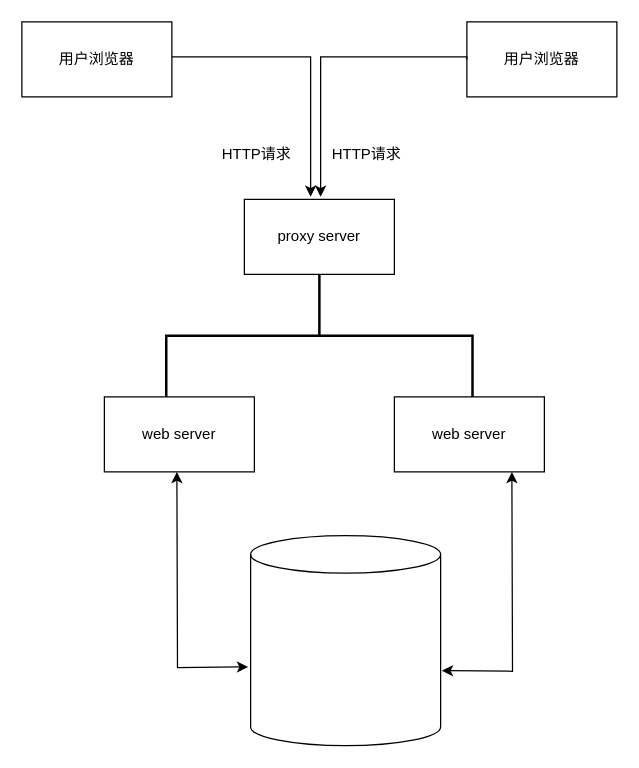
Image size: 639x768. Some labels were removed from this diagram. Each missing label, with the box of its shape:
database server: (249, 534, 441, 746)
负载均衡: (164, 272, 473, 398)
